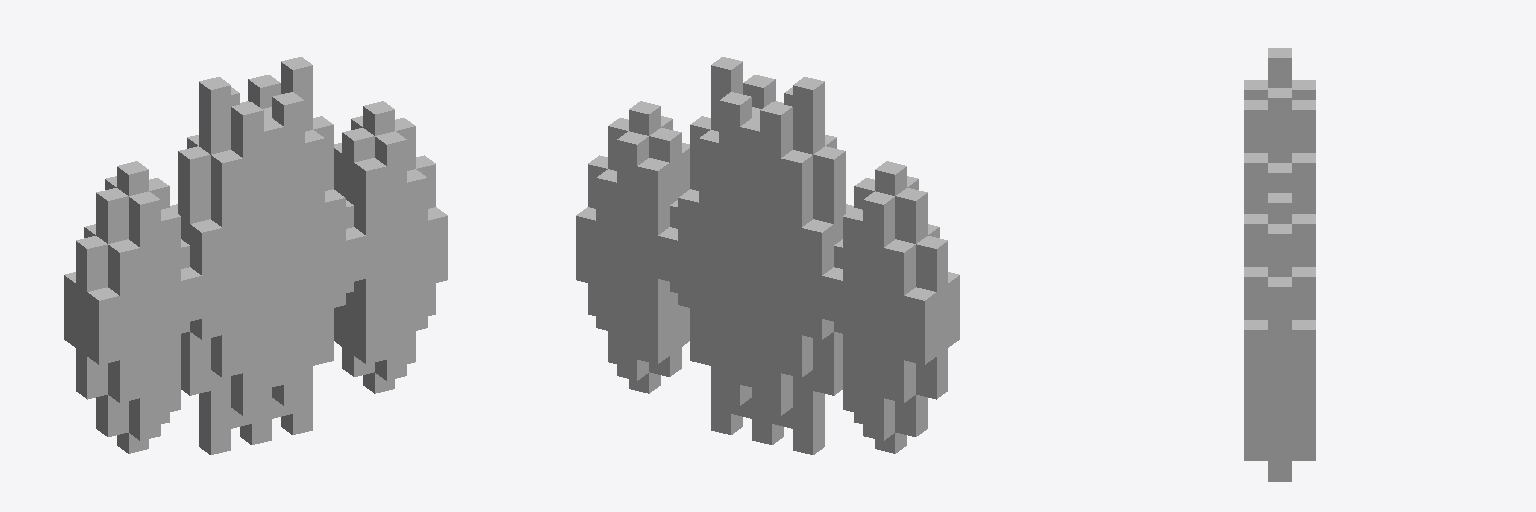
File: ship1.obj
The picture shows the model from 3 angles: view 1: azimuth 30°, elevation 25°; view 2: azimuth 150°, elevation 25°; view 3: azimuth 270°, elevation 25°; orthographic projection.
Visible parts, largest first — view 1: ship1; view 2: ship1; view 3: ship1.
Boxes of the visible parts, <box> form: ship1: <box>64,57,447,454</box>; ship1: <box>576,57,959,454</box>; ship1: <box>1244,48,1315,481</box>.
Bounding box in the file's own units: 17 × 17 × 3.